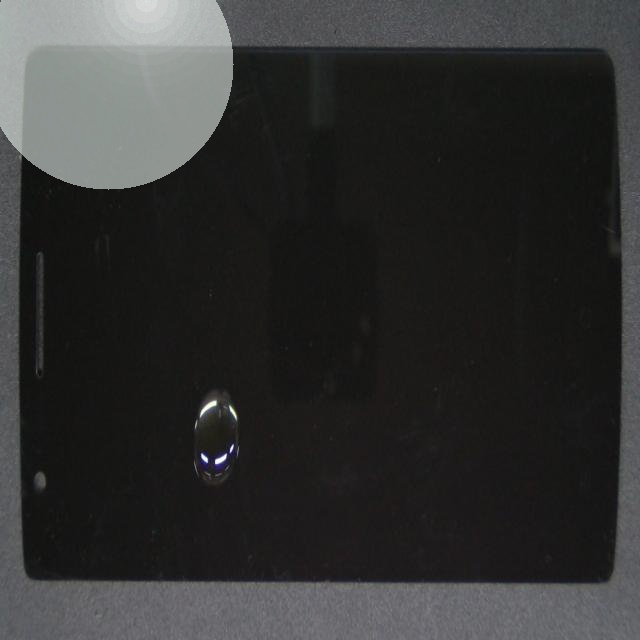oil: (93, 263, 336, 640)
